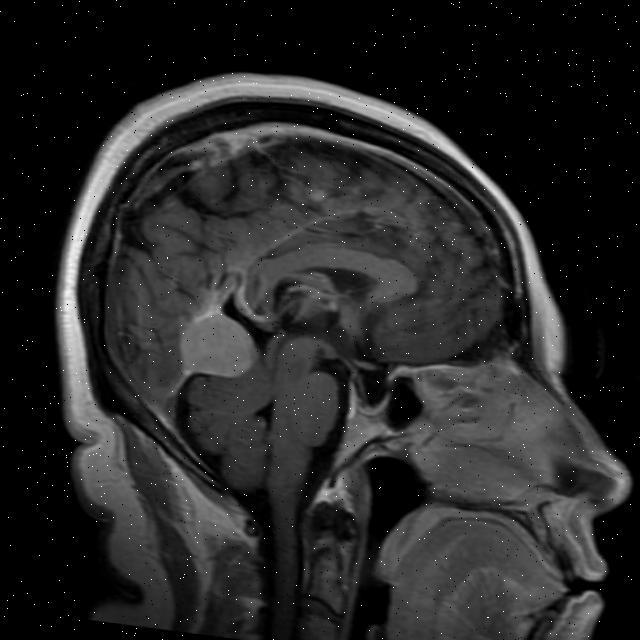Meningioma: (175, 306, 261, 382)
